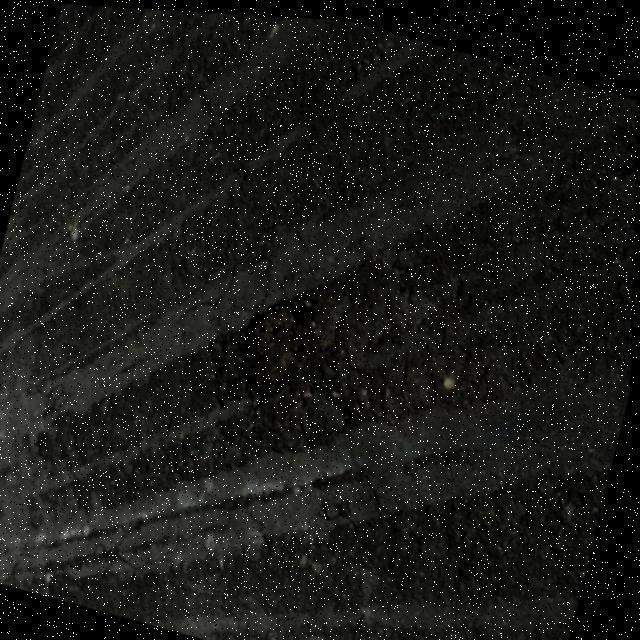pothole: (224, 272, 337, 412)
